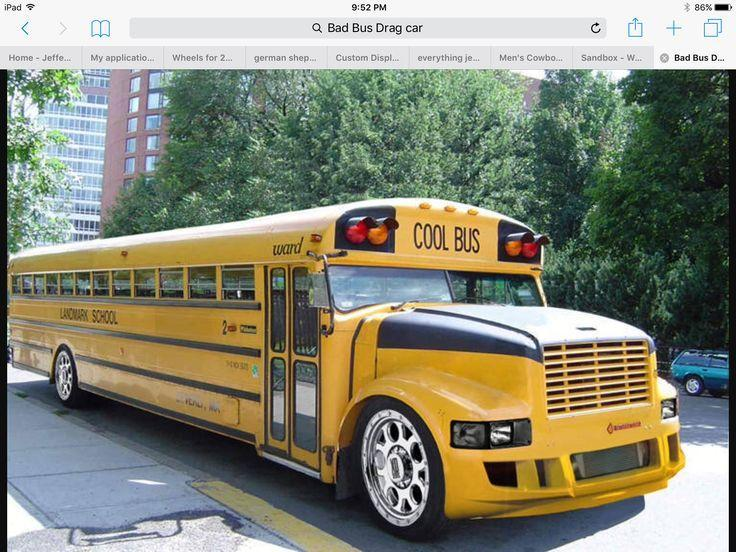Bus: (7, 198, 686, 541)
